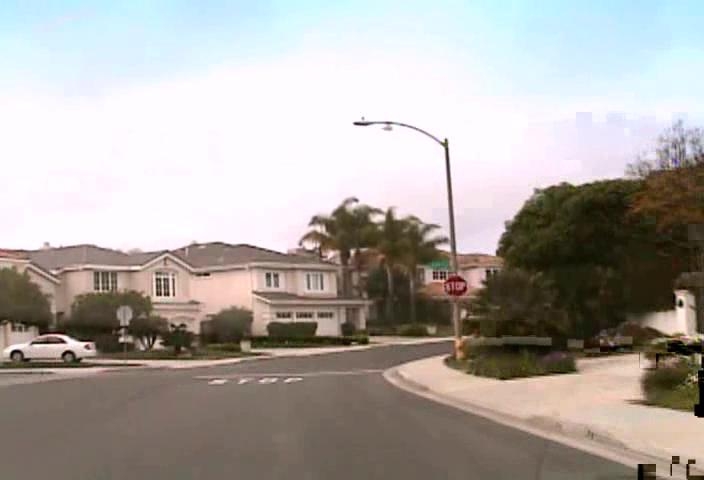stop: (443, 274, 468, 298)
